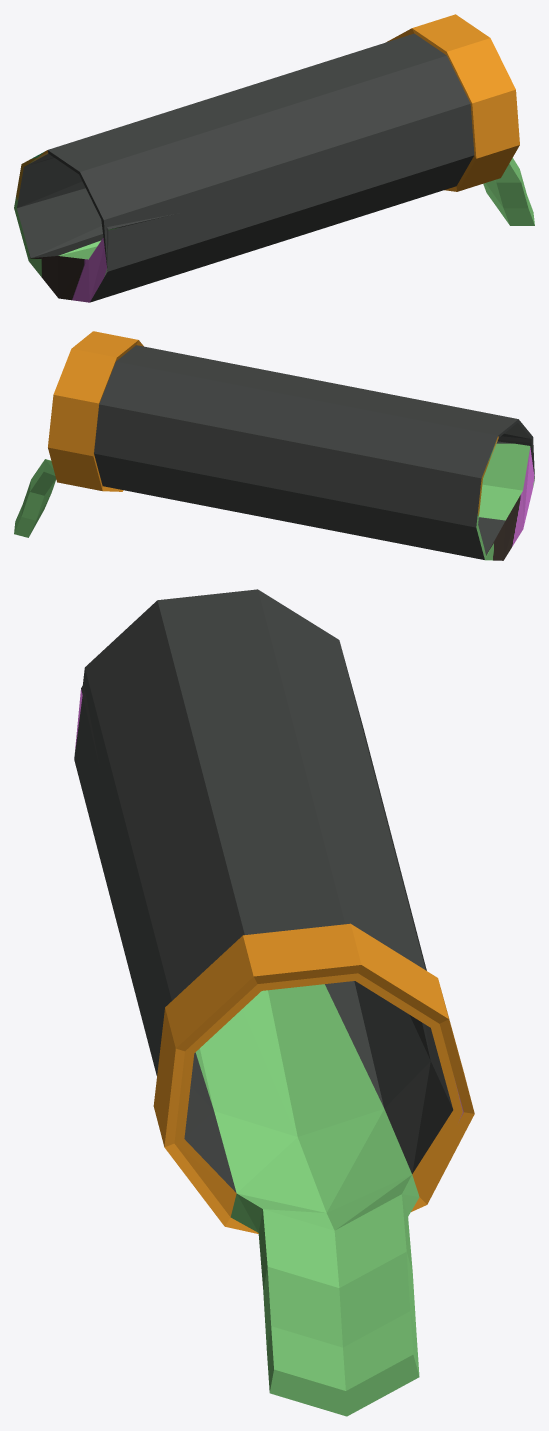
The model's file is Pipe_On.fbx.
The picture shows the model from 3 angles, top to bottom: view 1: azimuth 30°, elevation 25°; view 2: azimuth 150°, elevation 25°; view 3: azimuth 270°, elevation 25°; orthographic projection. The views are drawn at different scales.
Parts seen in each view (by area): view 1: pCylinder15; view 2: pCylinder15; view 3: pCylinder15.
Part boxes in pixels (x1,y1,x2,y2): pCylinder15: (14,14,534,302); pCylinder15: (14,331,534,560); pCylinder15: (74,589,474,1416).
Size of the model in its own units: 49.54 by 21.12 by 18.87.
